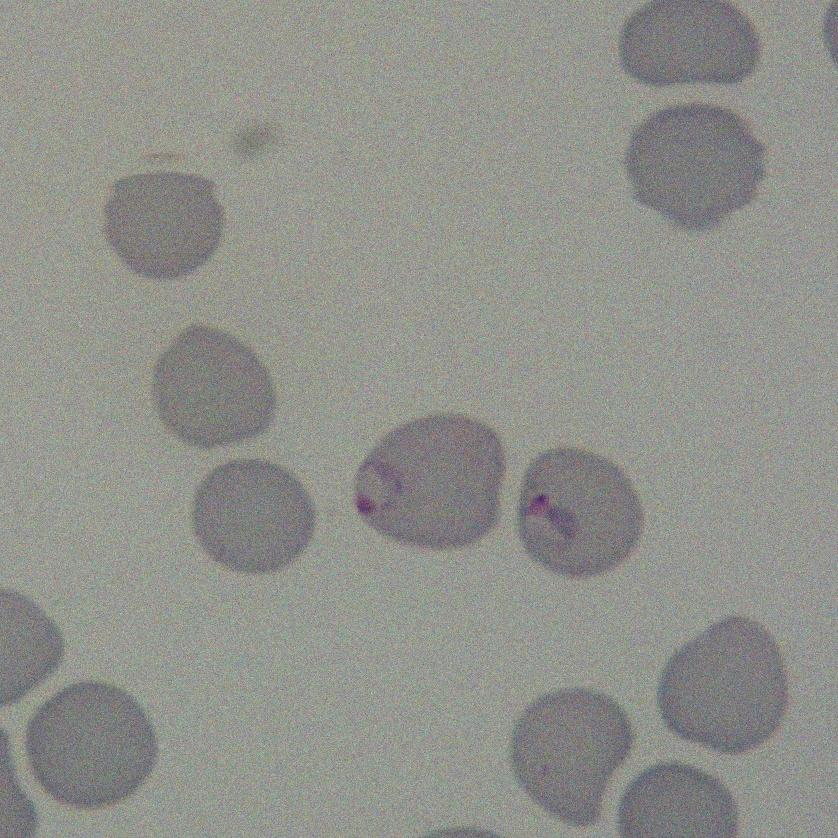Infected: (353, 414, 503, 546), (518, 444, 647, 576)
Uninfected: (655, 607, 788, 758), (625, 104, 772, 232), (505, 686, 633, 827), (27, 681, 159, 808), (152, 324, 277, 448), (193, 457, 317, 573), (105, 174, 225, 279), (620, 1, 761, 84)
